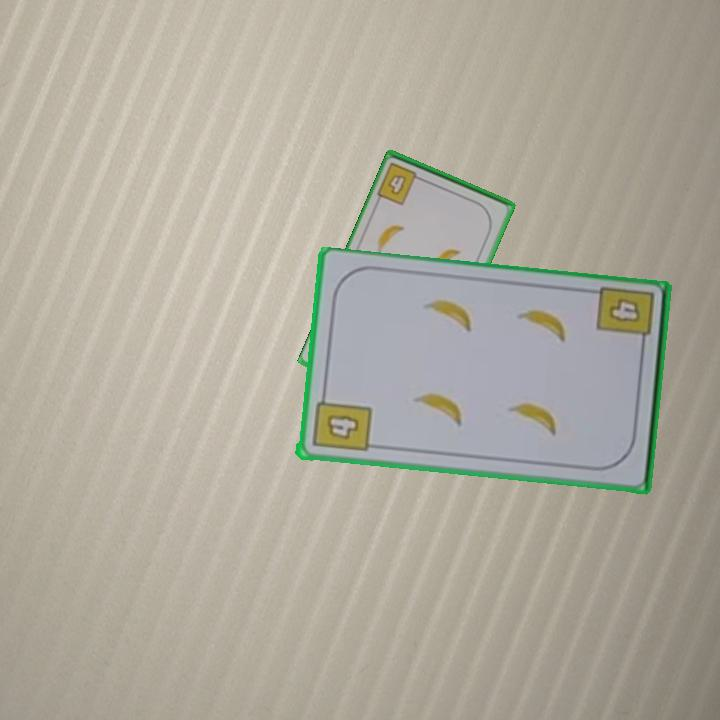4b: (308, 388, 373, 455), (374, 159, 428, 208), (604, 295, 643, 326)
